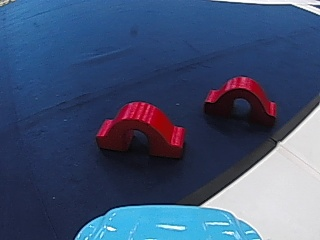bridge: (91, 96, 187, 158), (203, 72, 280, 125)
